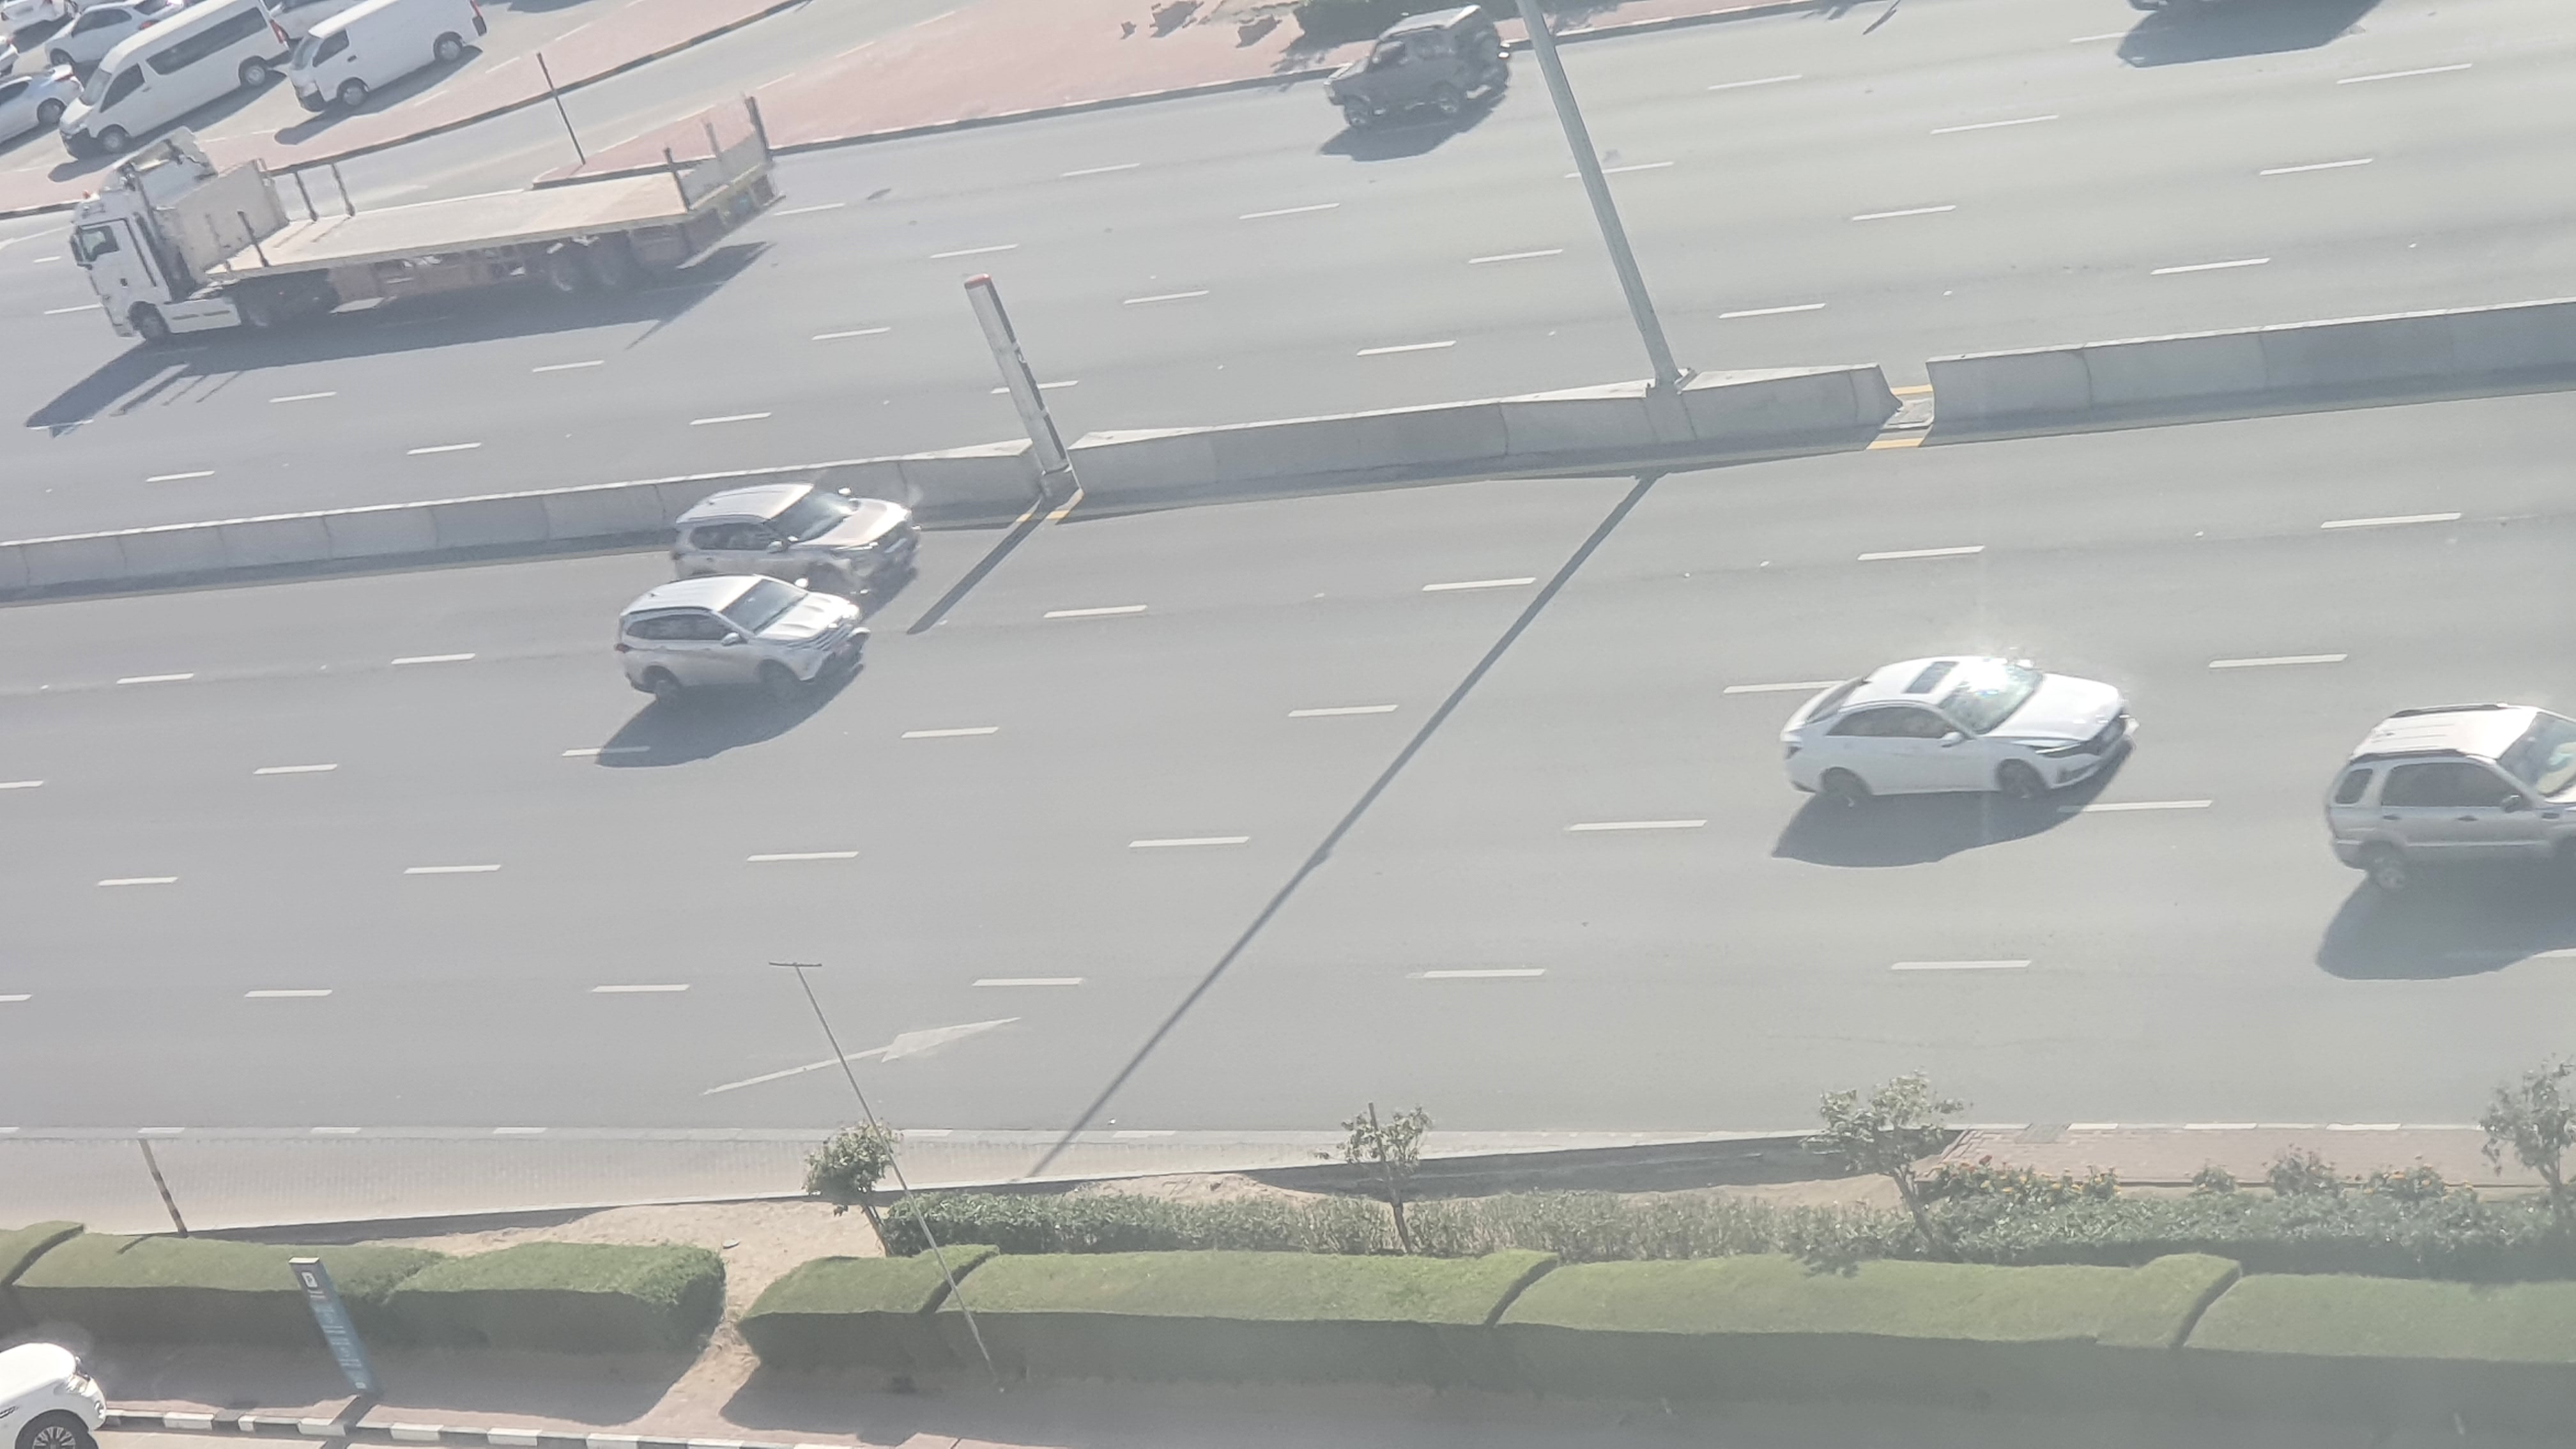NotSunroof: (2314, 697, 2576, 897), (614, 577, 876, 701), (672, 481, 924, 584)
Sunroof: (1775, 649, 2139, 814)
